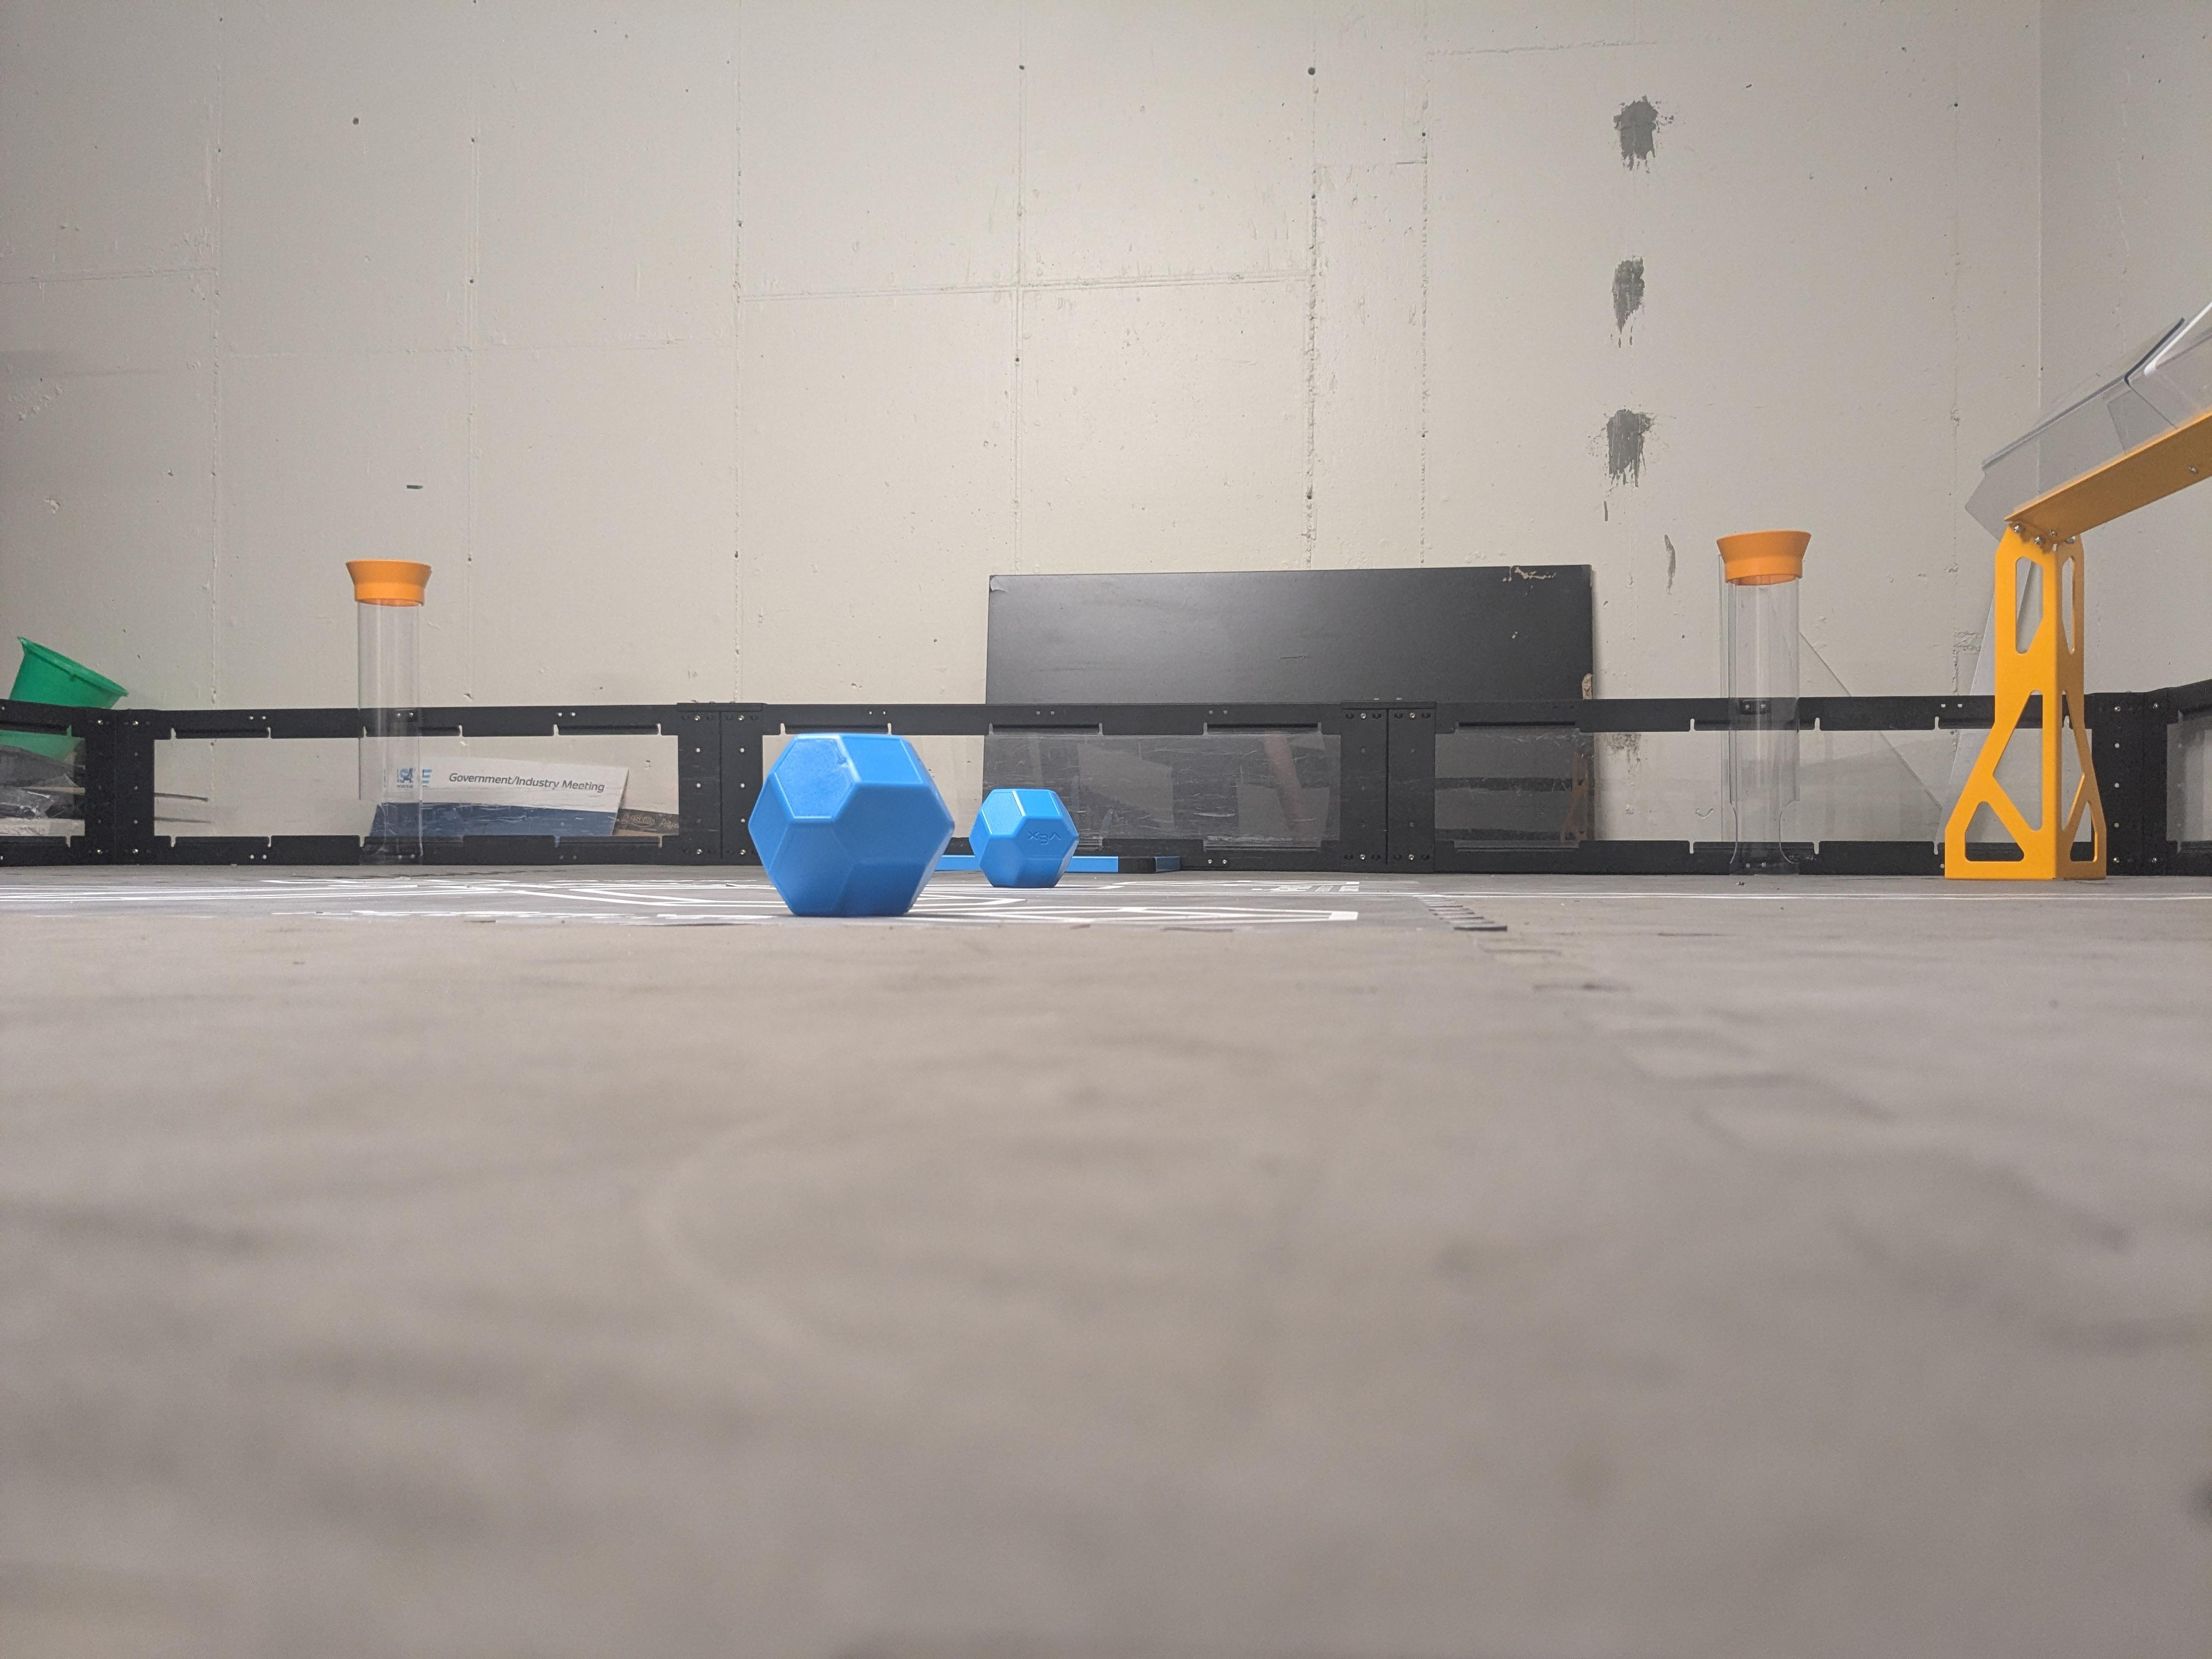Vex-Pieces-BLUE: (751, 734, 949, 915), (970, 788, 1078, 887)
